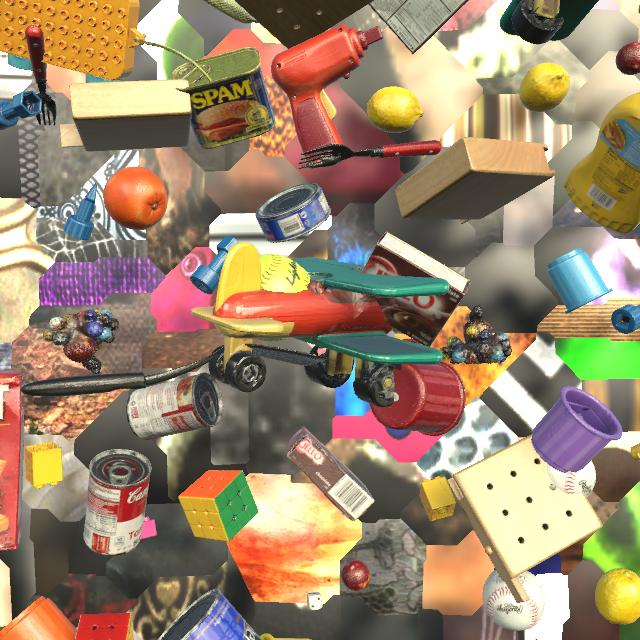ycb_002_master_chef_can: (158, 588, 262, 640)
ycb_003_cracker_box: (0, 370, 27, 551)
ycb_005_tomato_soup_can: (84, 449, 151, 556), (126, 372, 223, 440)
ycb_006_mustard_bottle: (564, 92, 640, 233), (631, 443, 640, 460)
ycb_007_tuna_fish_can: (256, 183, 331, 243)
ycb_008_pudding_box: (362, 232, 471, 347), (286, 426, 375, 521), (368, 0, 469, 54)
ycb_010_potted_meat_can: (172, 47, 276, 149)
ycb_014_lemon: (366, 86, 423, 133), (595, 568, 640, 625), (519, 63, 570, 112)
ycb_017_orange: (103, 166, 168, 230)
